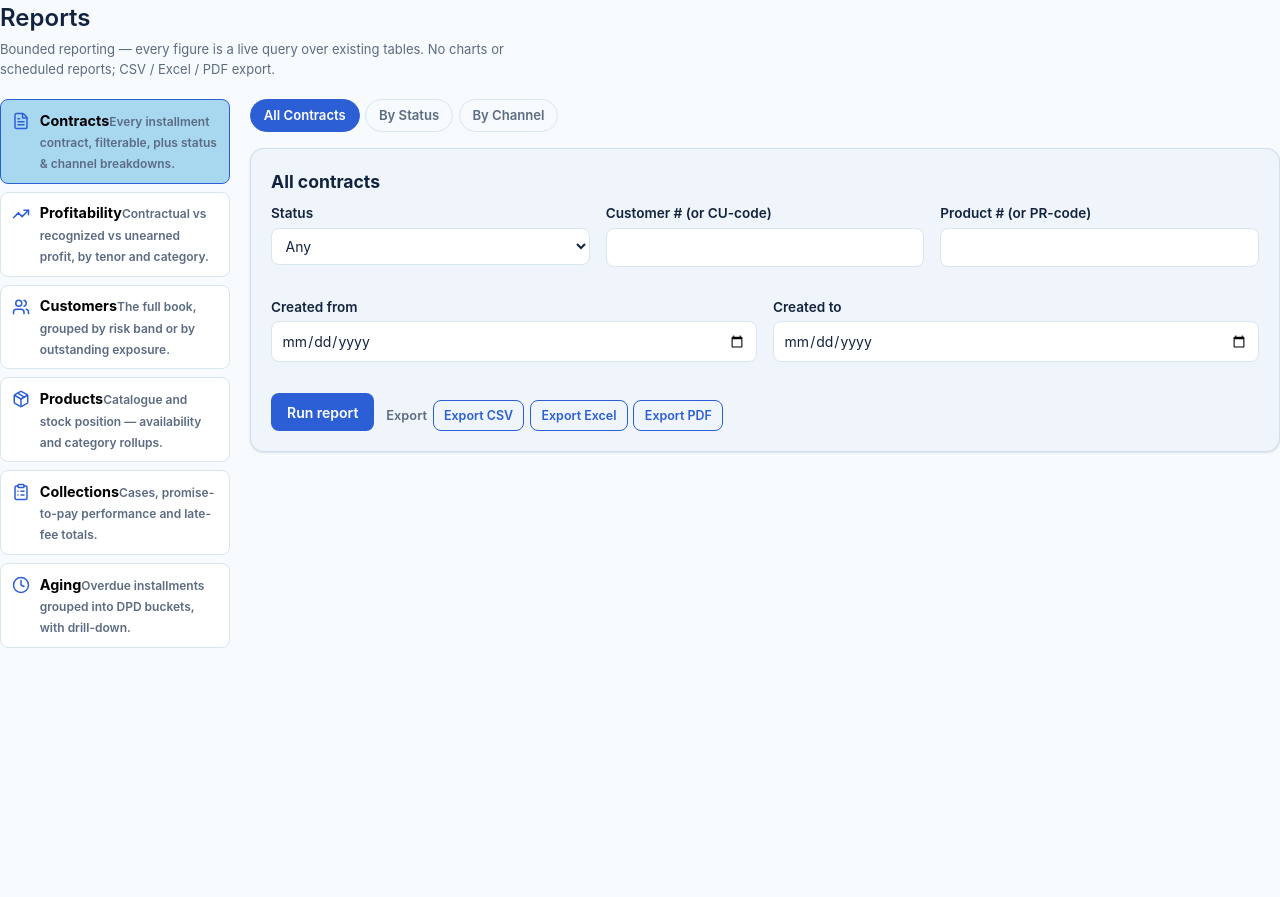
Test: Reports Center › runs the Profitability report and shows reconciling totals
The width and height of the screenshot is (1280, 897).
Click the tab "Profitability" at (115,234), box 0,192 -> 230,277
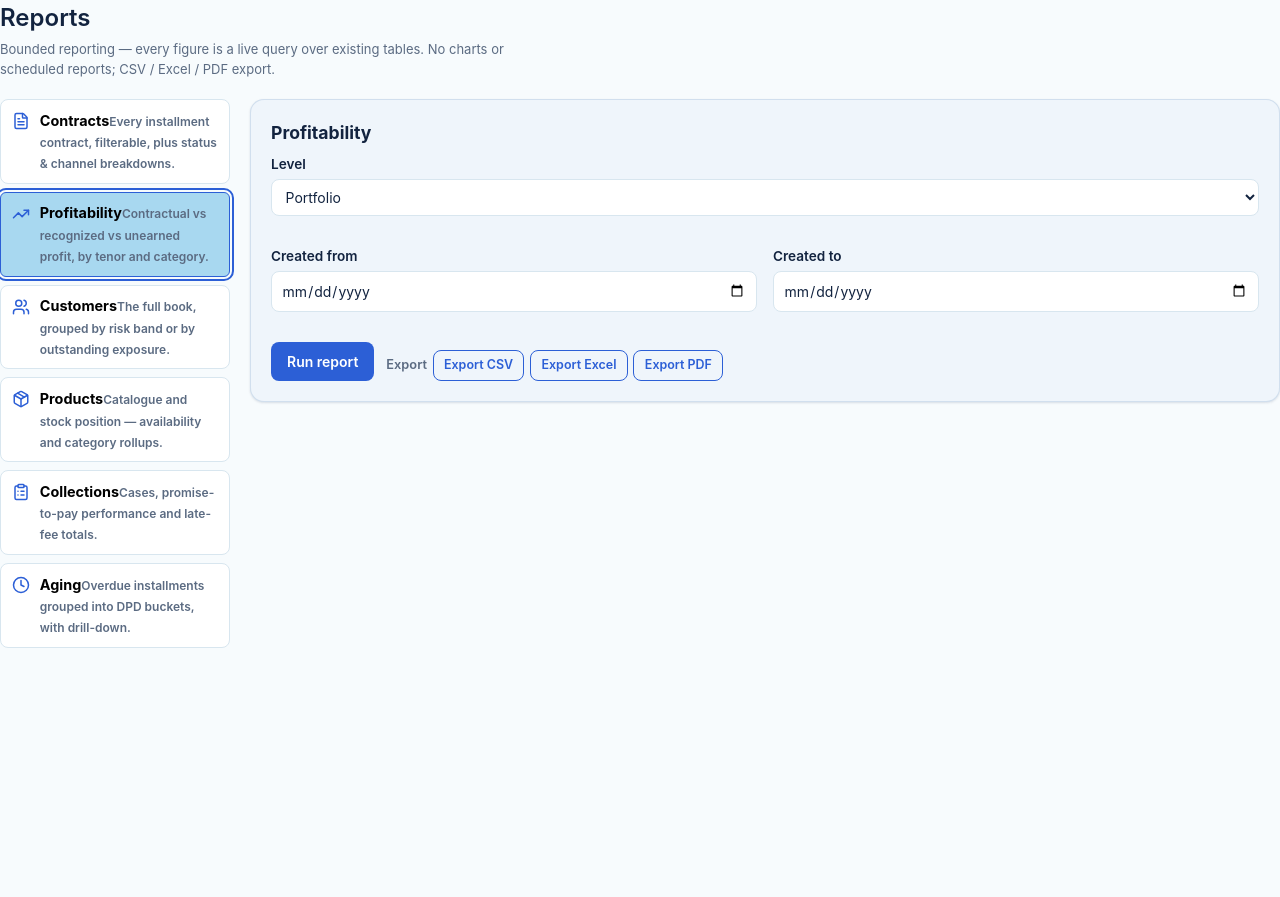
Click the button "Run report" at (323,361), box 271,342 -> 374,381
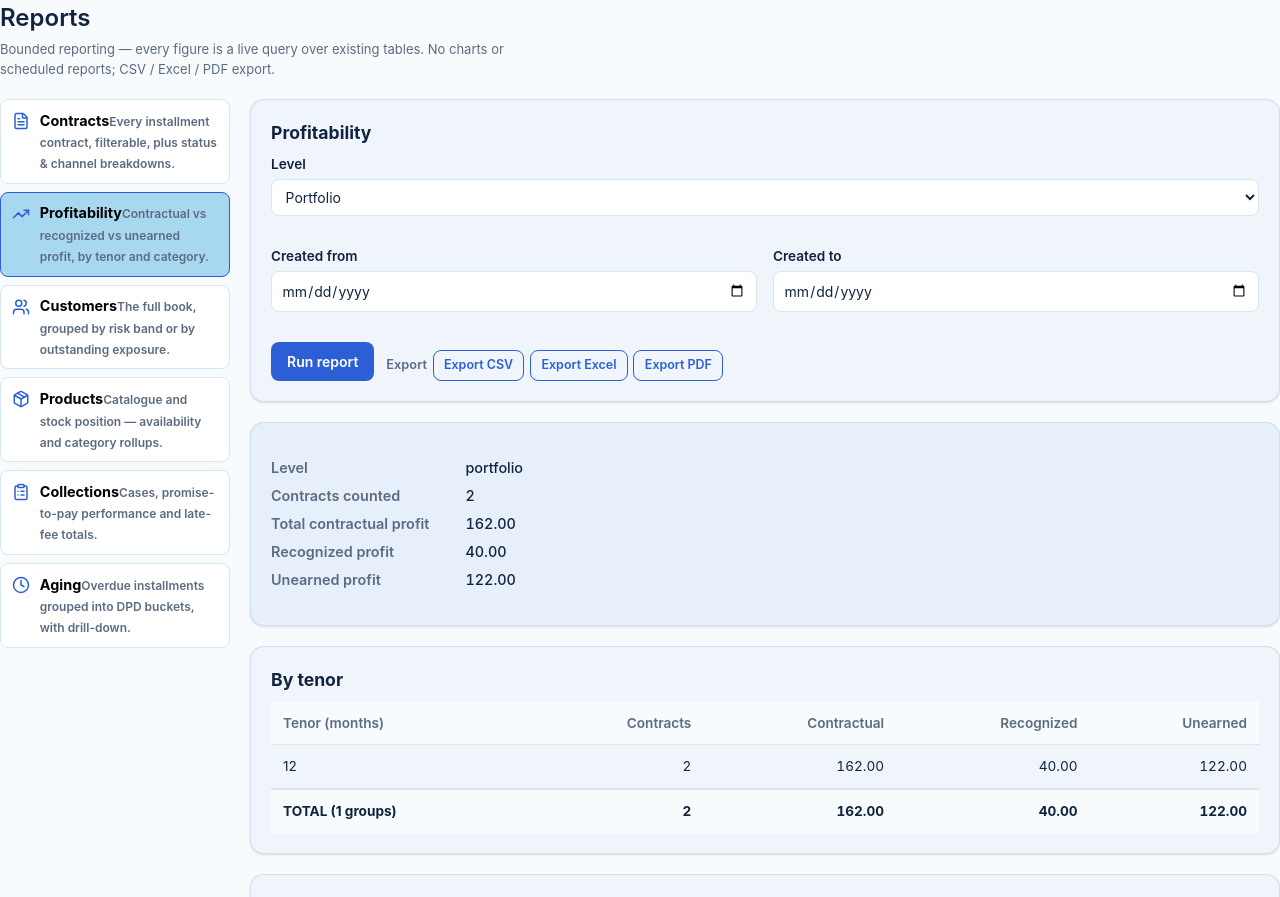
Result: the text with test id "prof-contractual" reads "162.00" at 465,515 -> 516,532
Result: the text with test id "prof-recognized" reads "40.00" at 465,543 -> 507,560
Result: the text with test id "prof-unearned" reads "122.00" at 465,571 -> 516,588
